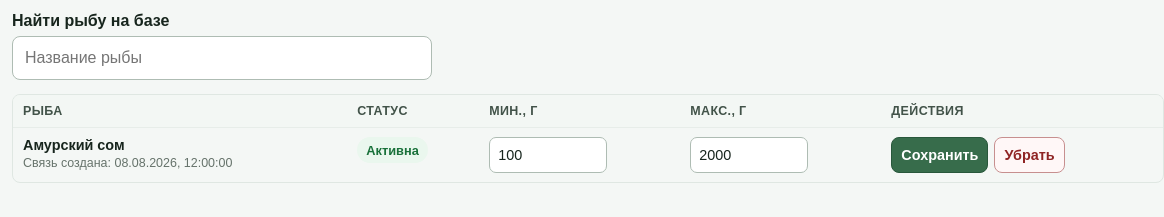
BaseFishWeightTable › maps an empty input to null and blocks a reversed merged pair locally
The image size is (1164, 217).
Clear the number field named "Минимальный вес, Амурский сом": {"x": 548, "y": 155} x1=489 y1=137 x2=607 y2=173
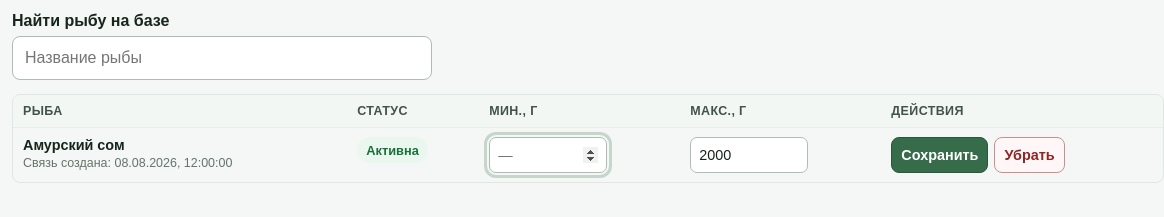
Click the button "Сохранить": {"x": 940, "y": 155} x1=891 y1=137 x2=988 y2=173
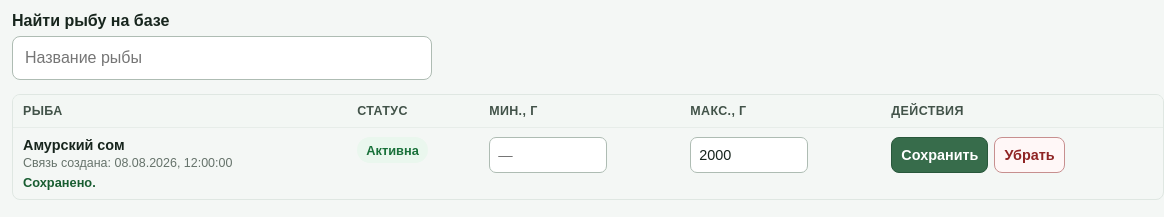
In the number field named "Минимальный вес, Амурский сом": {"x": 548, "y": 155} x1=489 y1=137 x2=607 y2=173, type "2001"
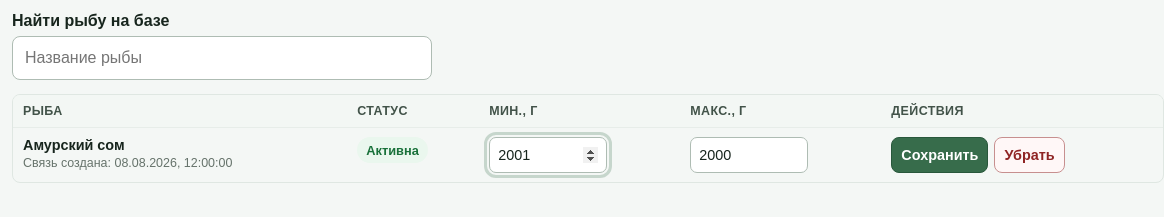
Click the button "Сохранить": {"x": 940, "y": 155} x1=891 y1=137 x2=988 y2=173
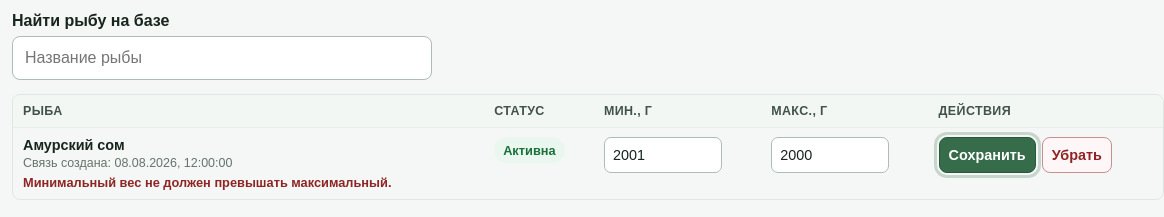
Expected: the message reads "Минимальный вес не должен превышать максимальный.", x1=23 y1=175 x2=392 y2=190
